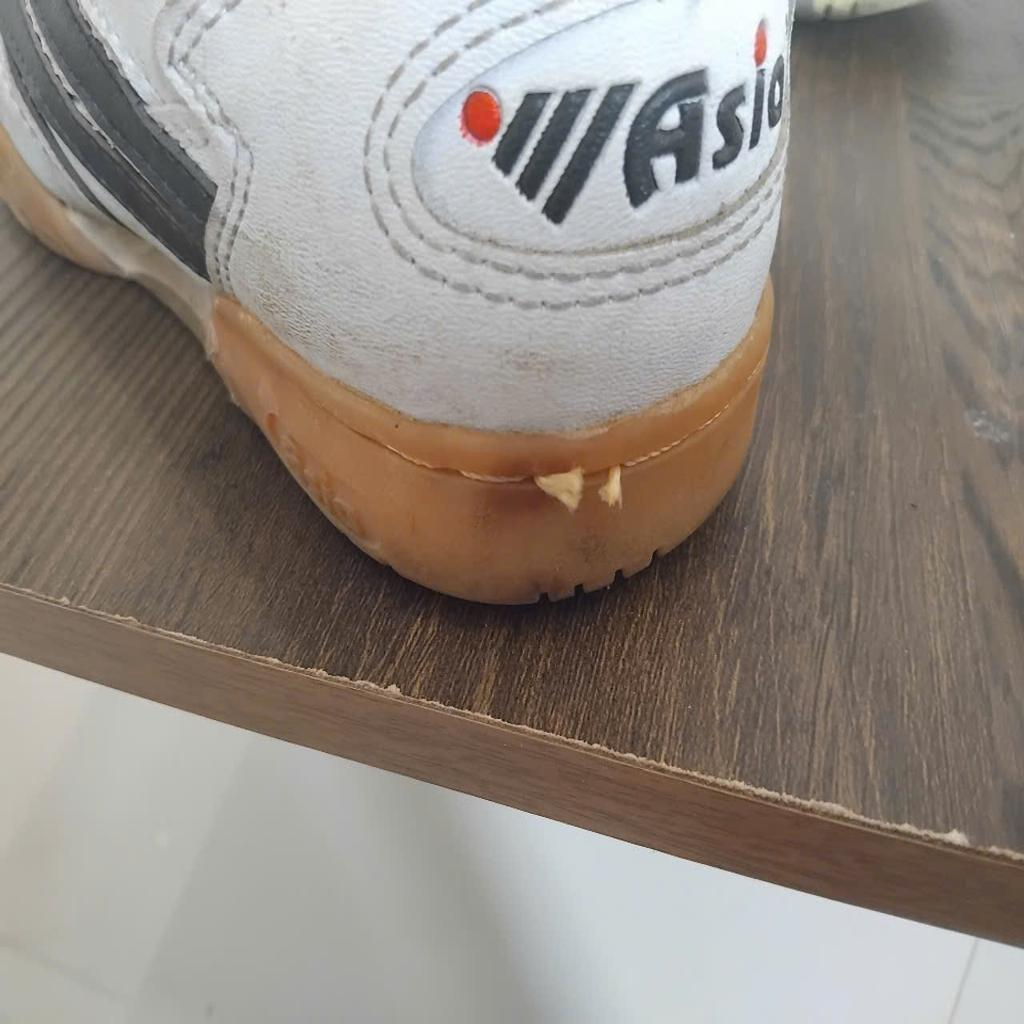broken: (527, 461, 648, 515)
